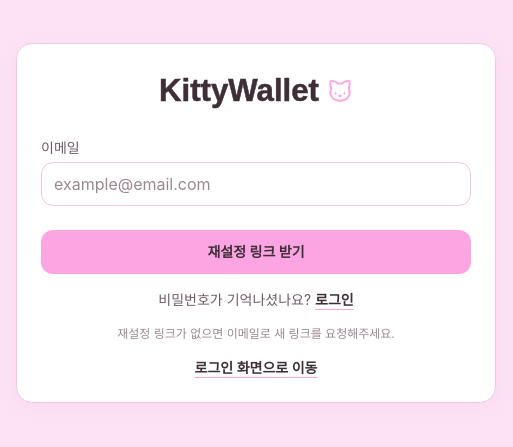
it: ResetPasswordPage › shows success guidance after requesting a reset link
Step 1. Type "test@example.com" into the field labelled "이메일" → (256, 184), box [41,162,471,206]
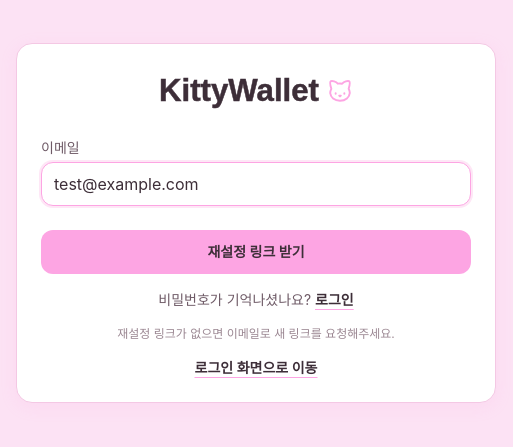
Step 2. Click the button "재설정 링크 받기" → (256, 252), box [41,230,471,274]
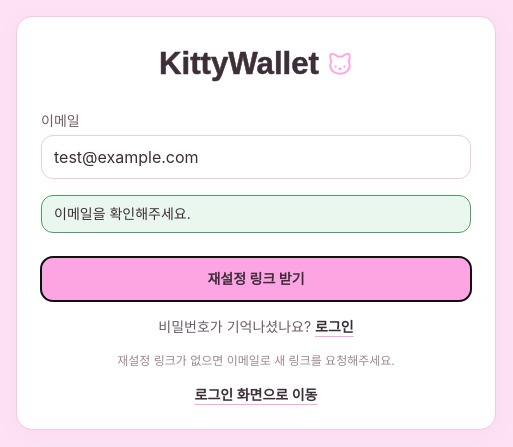
Result: the text "이메일을 확인해주세요." is shown at [41,195,471,233]
